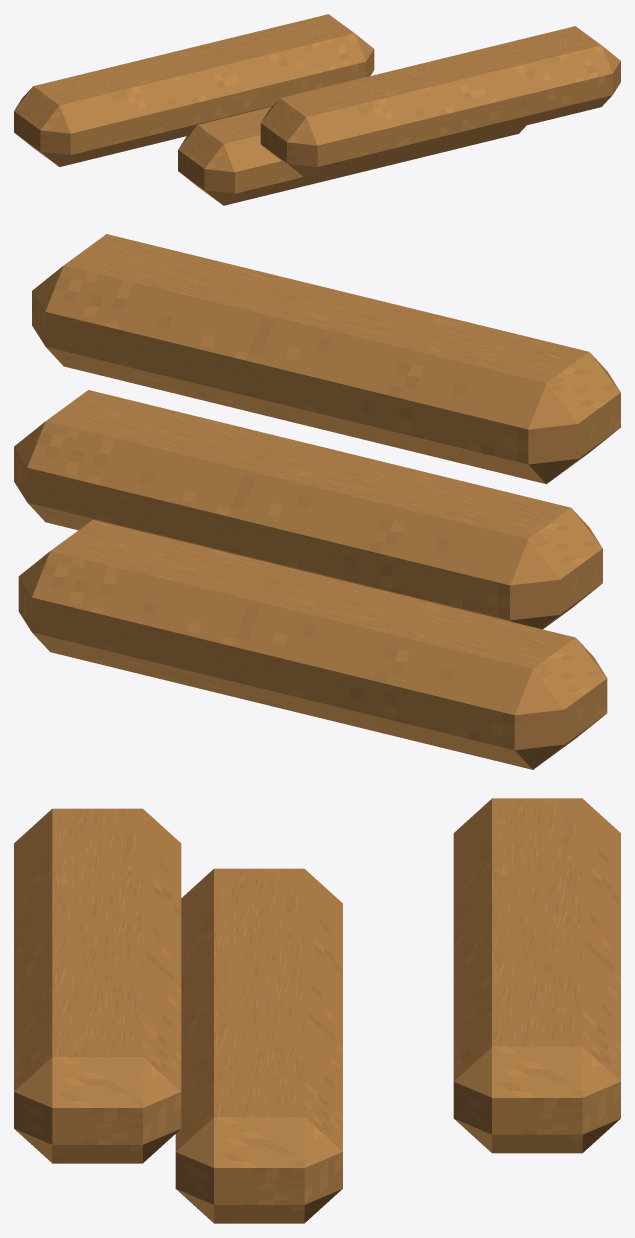
The model's file is fried_mozzarella_sticks.glb.
3 views of the same model, one above another, from view 1: azimuth 30°, elevation 25°; view 2: azimuth 150°, elevation 25°; view 3: azimuth 270°, elevation 25° (orthographic). The views are drawn at different scales.
Visible parts, largest first — view 1: block_breaded cheese stick (×3); view 2: block_breaded cheese stick (×3); view 3: block_breaded cheese stick (×3).
Boxes of the visible parts, x1,y1,x2,y2 form: block_breaded cheese stick (×3): (14, 14, 620, 205); block_breaded cheese stick (×3): (14, 234, 620, 769); block_breaded cheese stick (×3): (14, 798, 620, 1223).
Size of the model in its own units: 0.0756 by 0.0182 by 0.0509.
1 material, 1 textured.
